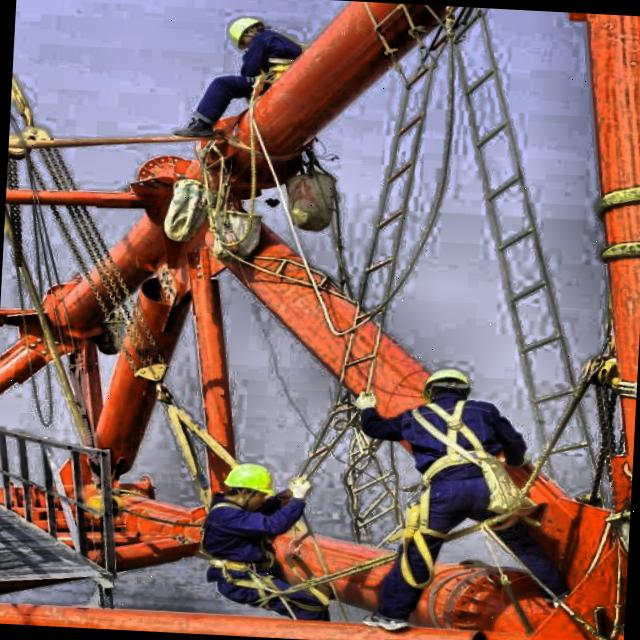helmet: (412, 361, 482, 412), (224, 460, 279, 512), (222, 8, 276, 58)
